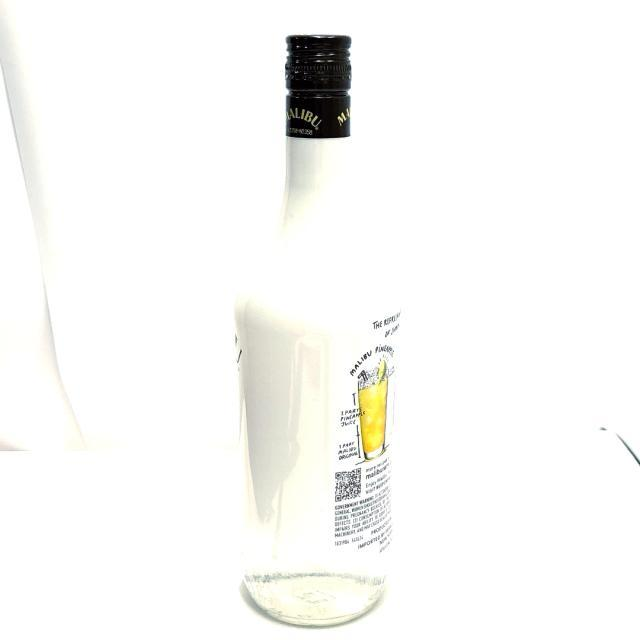Malibu Caribbean Rum with Coconut Flavored Liqueur 750mL 42 Proof: (226, 25, 407, 634)
